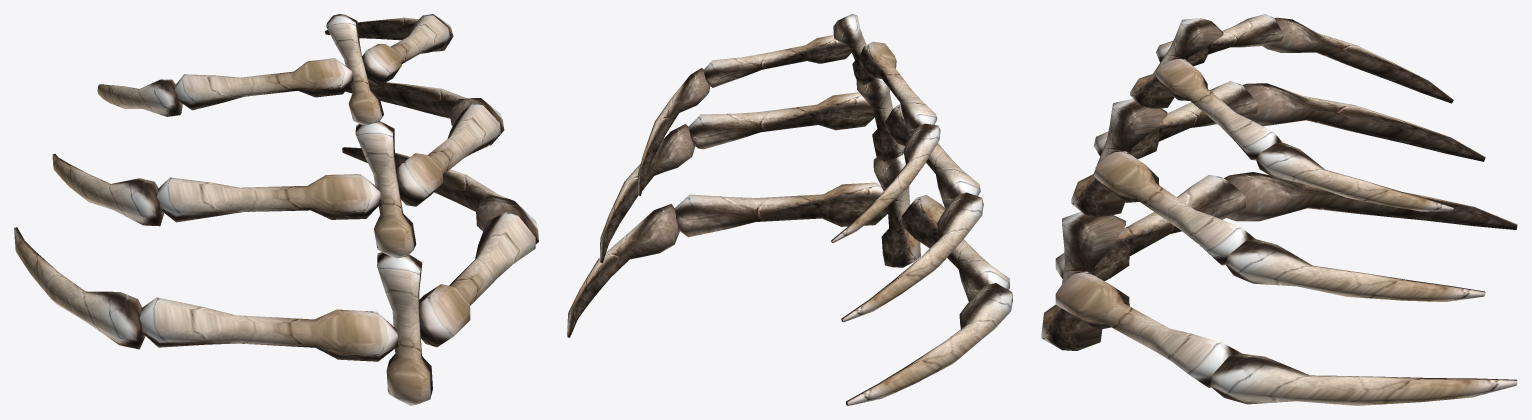
3 renders of one model, left to right at view 1: azimuth 30°, elevation 25°; view 2: azimuth 150°, elevation 25°; view 3: azimuth 270°, elevation 25°, orthographic. The views are drawn at different scales.
Visible parts, largest first — view 1: model_Object28; view 2: model_Object28; view 3: model_Object28.
Boxes of the visible parts, box(x1,y1,x2,y2) form: model_Object28: box(14, 14, 538, 405); model_Object28: box(567, 14, 1012, 405); model_Object28: box(1041, 14, 1517, 405).
Bounding box in the file's own units: 2.74 × 2.06 × 2.71.
Materials: 1 (1 with a texture image).
